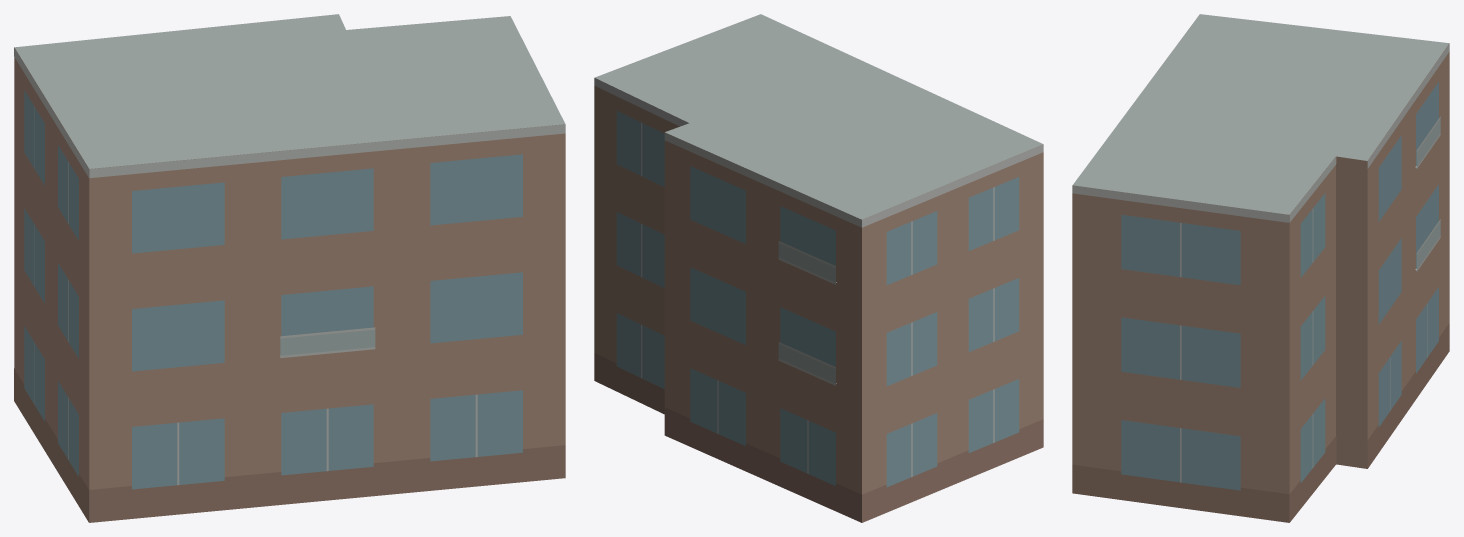
Rendered from survey-upis-32962054.glb.
3 renders of one model, left to right at view 1: azimuth 30°, elevation 25°; view 2: azimuth 150°, elevation 25°; view 3: azimuth 270°, elevation 25°, orthographic. The views are drawn at different scales.
Visible parts, largest first — view 1: survey-upis-32962054.tmp; view 2: survey-upis-32962054.tmp; view 3: survey-upis-32962054.tmp.
Part boxes in pixels (left/top/right/bottom): survey-upis-32962054.tmp: left=14, top=14, right=565, bottom=522; survey-upis-32962054.tmp: left=594, top=14, right=1043, bottom=522; survey-upis-32962054.tmp: left=1072, top=14, right=1449, bottom=522.
Bounding box in the file's own units: 13.01 × 9.3 × 10.33.
